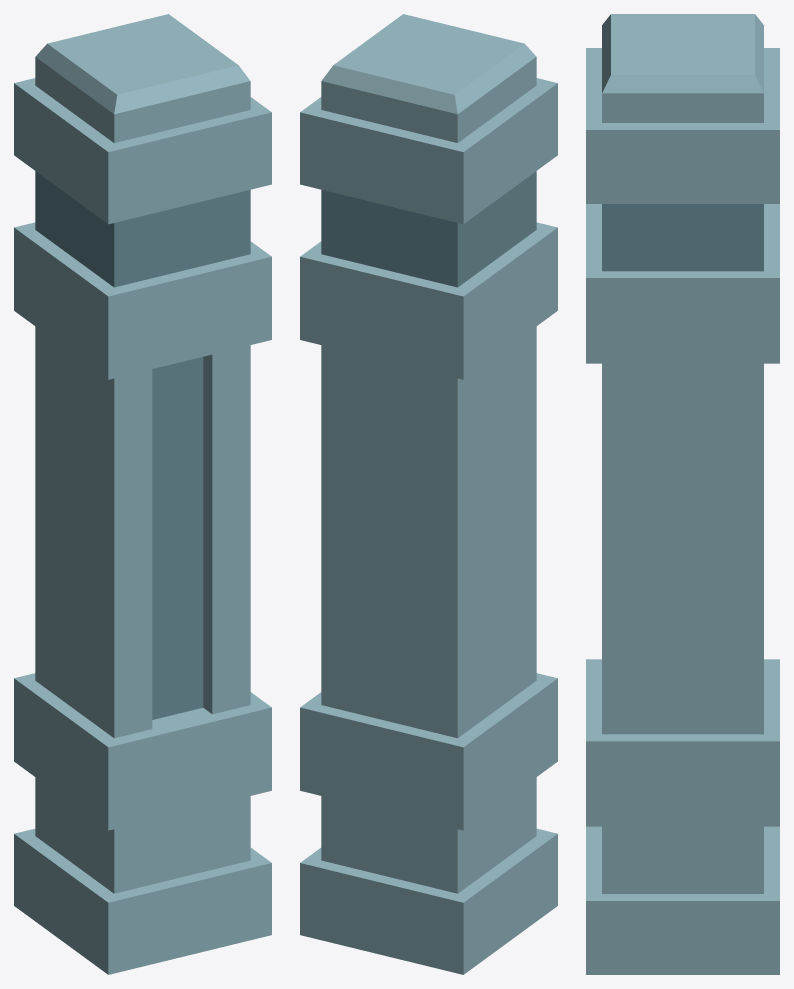
File: pillarSquare.obj
3 renders of one model, left to right at view 1: azimuth 30°, elevation 25°; view 2: azimuth 150°, elevation 25°; view 3: azimuth 270°, elevation 25°, orthographic. The views are drawn at different scales.
Parts seen in each view (by area): view 1: pillarSquare; view 2: pillarSquare; view 3: pillarSquare.
Part boxes in pixels (<box>): pillarSquare: <box>14,14,271,974</box>; pillarSquare: <box>300,14,557,974</box>; pillarSquare: <box>586,14,779,974</box>.
Size of the model in its own units: 0.2062 by 1.04 by 0.2062.
